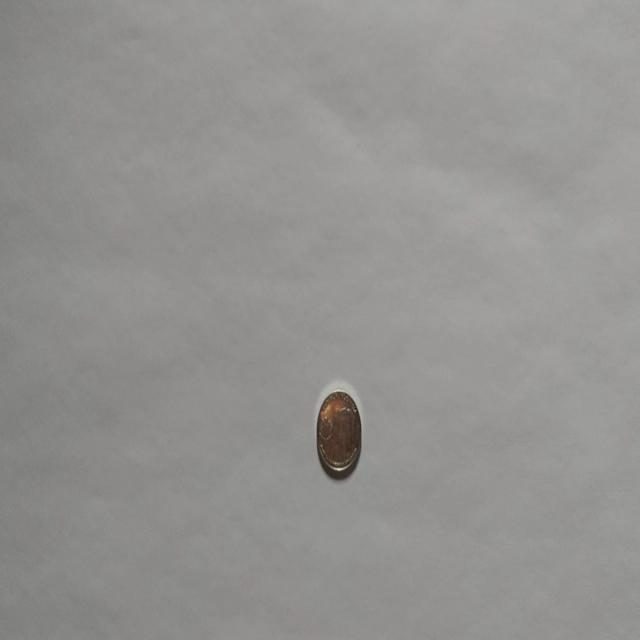seratus rupiah: (316, 388, 362, 477)
